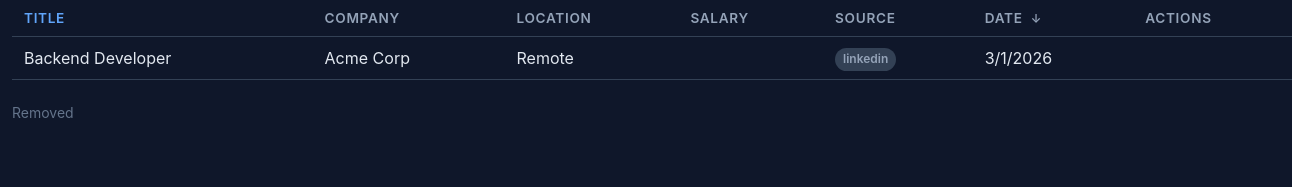
Test: SearchResultsTable — removed postings section › collapses the removed section when the header is clicked again
Click the button "Removed" at (43, 112), box [12,96,74,129]
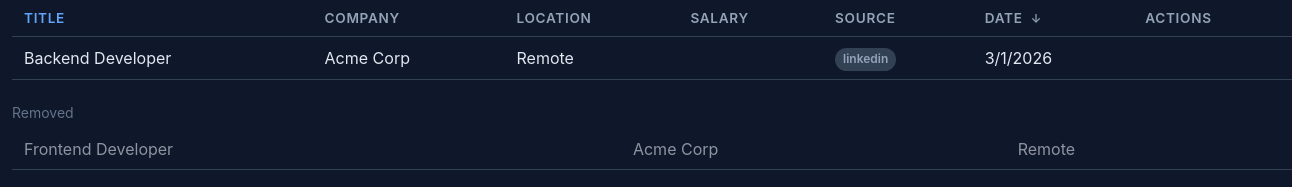
Check: the text "Frontend Developer" is shown, box [12,129,621,169]
Click the button "Removed" at (43, 112), box [12,96,74,129]
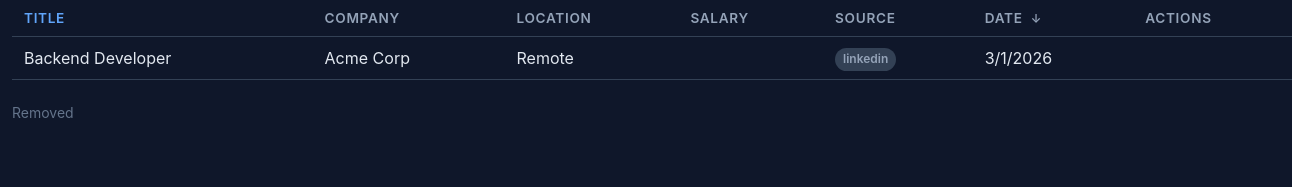
Check: the text "Frontend Developer" is gone
